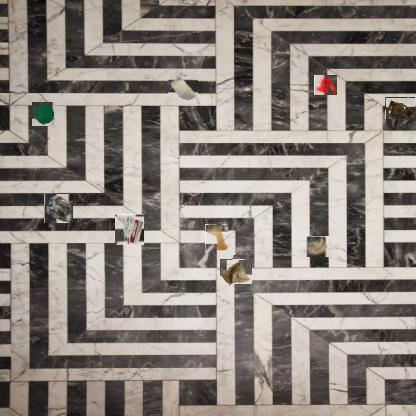dirty: (114, 214, 144, 245), (44, 194, 74, 223), (222, 257, 251, 286), (168, 76, 198, 104), (385, 97, 415, 119), (31, 102, 55, 126), (306, 236, 329, 257)
liquid: (205, 224, 228, 250), (314, 75, 337, 95)
